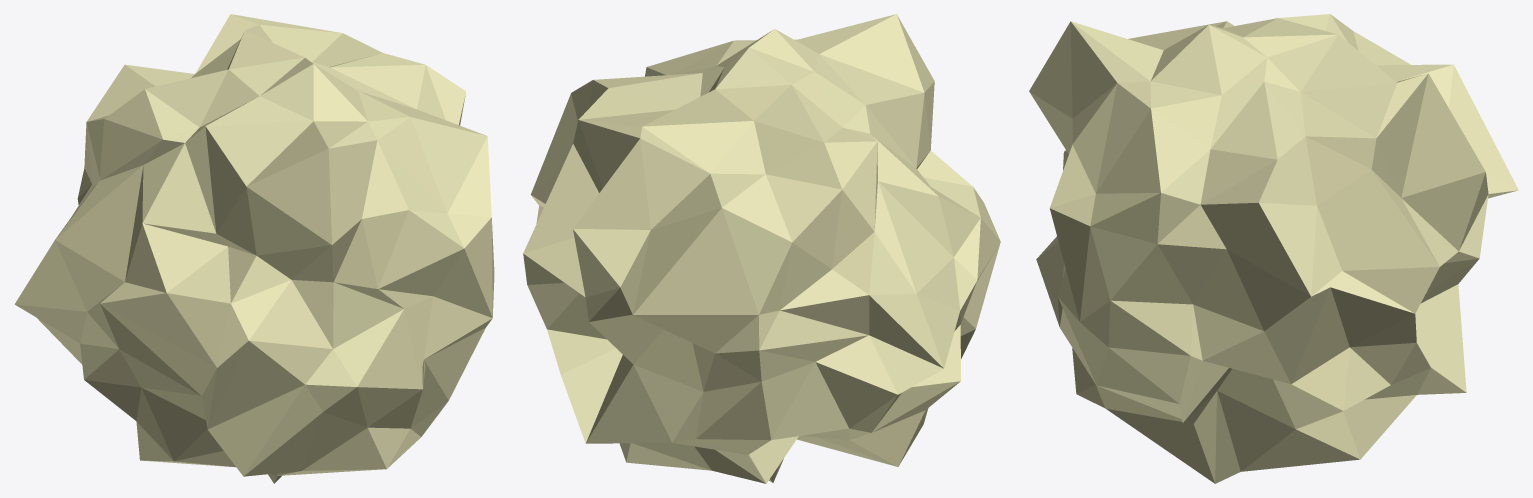
Rendered from crumpled paper.fbx.
3 views of the same model, side by side, from view 1: azimuth 30°, elevation 25°; view 2: azimuth 150°, elevation 25°; view 3: azimuth 270°, elevation 25° (orthographic).
Visible parts, largest first — view 1: Icosphere; view 2: Icosphere; view 3: Icosphere.
Part boxes in pixels (left/top/right/bottom): Icosphere: left=14, top=14, right=494, bottom=483; Icosphere: left=523, top=14, right=1000, bottom=483; Icosphere: left=1029, top=14, right=1518, bottom=483.
Size of the model in its own units: 215 by 209 by 212.
